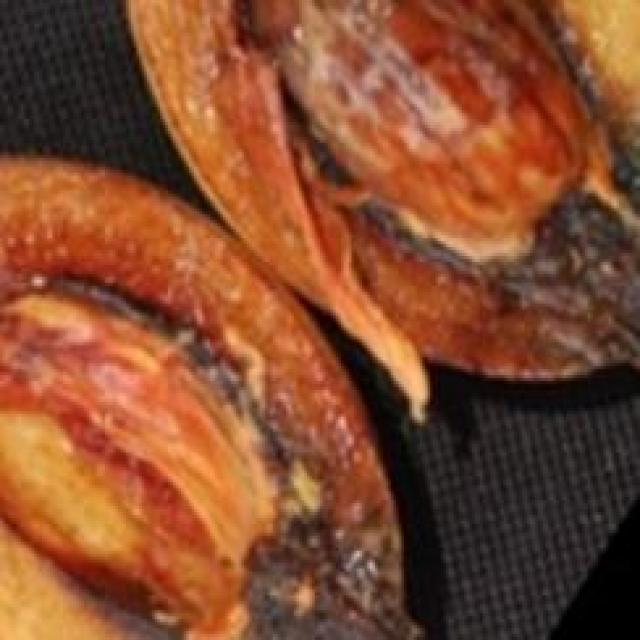damaged: (121, 0, 637, 423), (0, 155, 428, 637)
